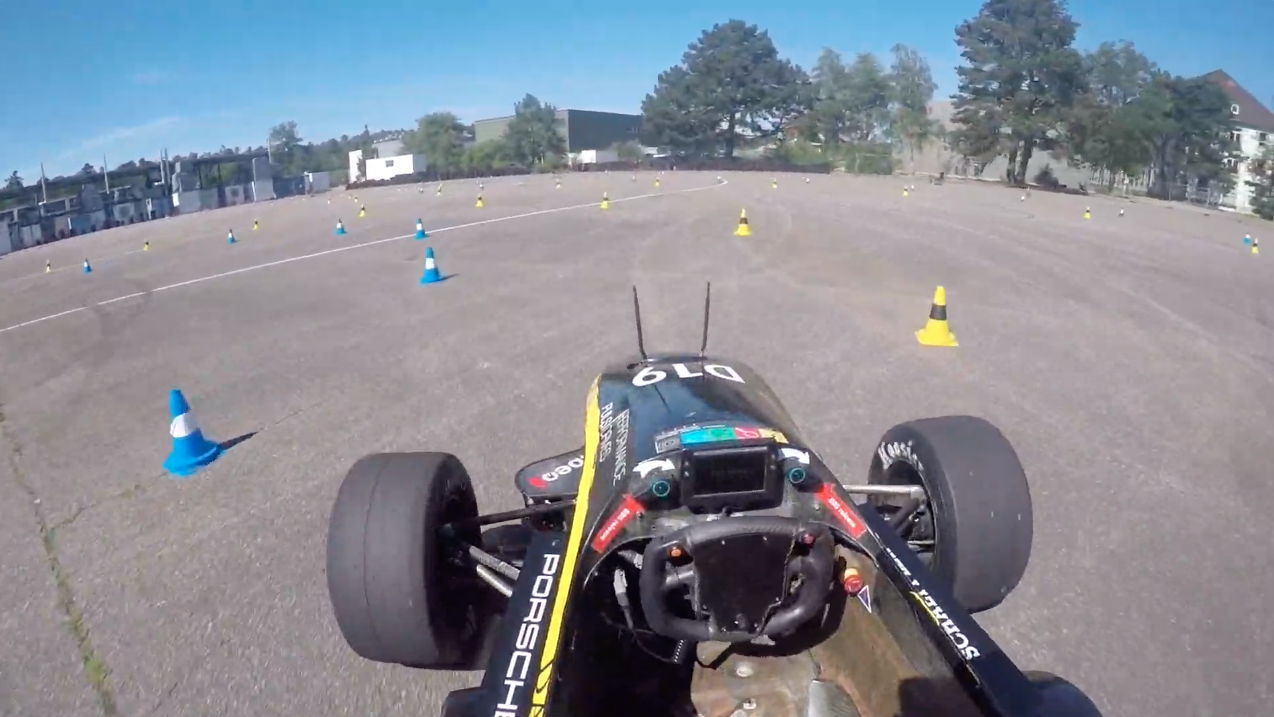lcone: (154, 388, 230, 479), (413, 243, 449, 287), (411, 216, 431, 241)
rcone: (908, 282, 964, 349), (729, 206, 758, 238)
